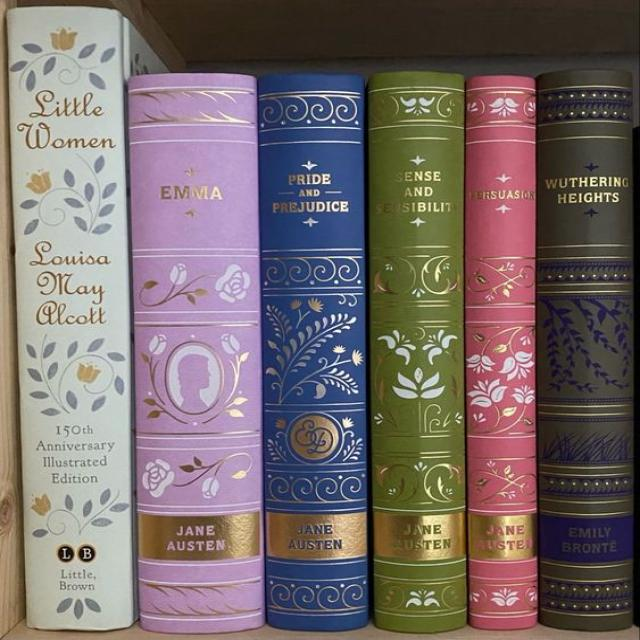book: (8, 7, 135, 629), (128, 73, 264, 632), (260, 73, 368, 630), (368, 71, 466, 630), (537, 70, 633, 628), (465, 76, 537, 628)
